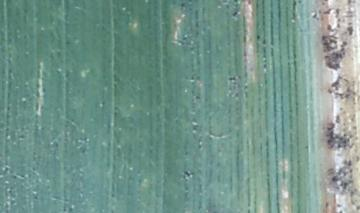tarspot: (182, 170, 196, 178), (226, 74, 238, 83), (229, 10, 241, 19), (255, 34, 262, 42)
